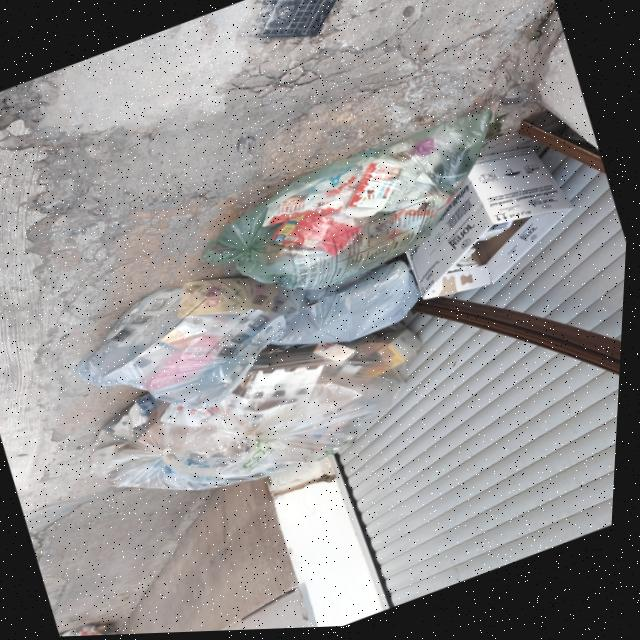Organic Waste -White Bag-: (96, 310, 446, 531), (78, 250, 310, 433), (264, 252, 439, 370), (63, 607, 143, 638)
Other: (378, 133, 594, 319)
Recycled Waste -Grey or Green Bag-: (202, 104, 531, 323)
